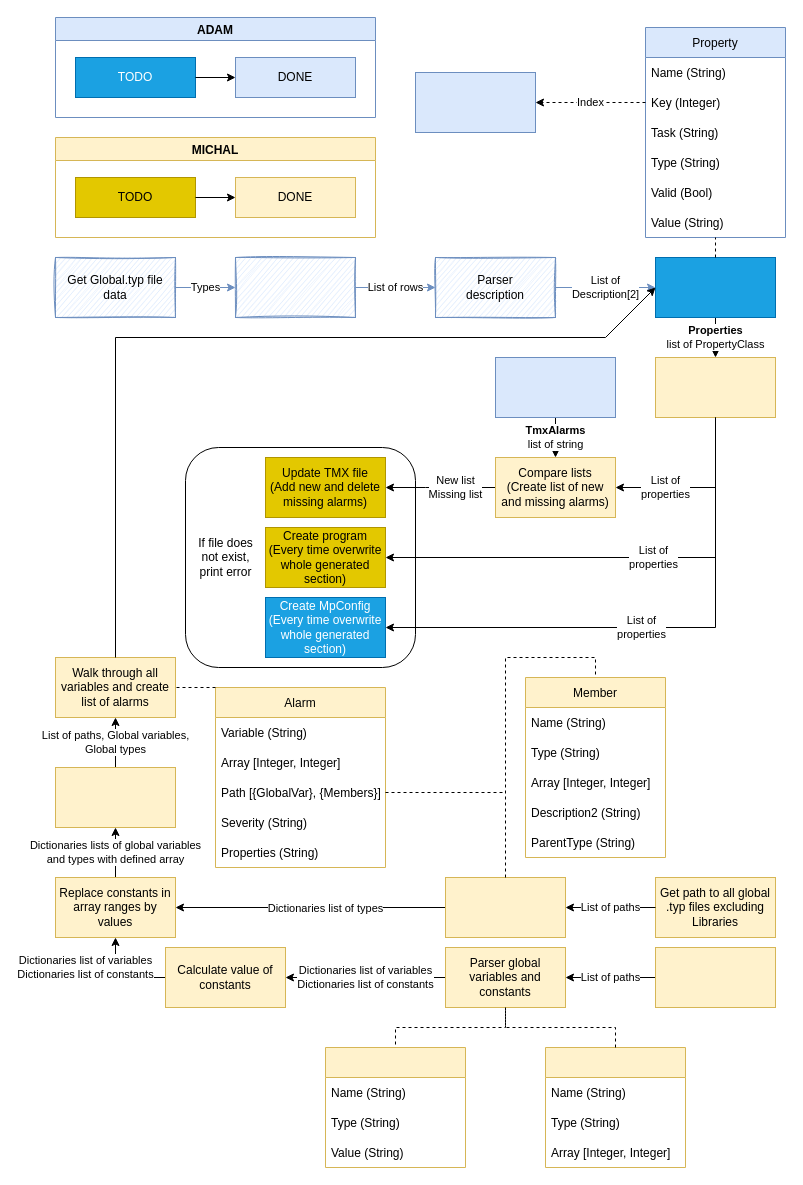
Some shapes in this 803 by 1185 pixel diagram are drawn without their labels. The shapes that lost their labels are listed below. From the top down, each one's box as (x1, y1, x2, y2) in pixels, then its label:
(414, 72, 536, 132): KEYS list of string
(234, 256, 356, 318): Parser rows
(654, 256, 776, 318): Parser properties
(494, 356, 616, 418): Get alarm names list of TMX file
(654, 356, 776, 418): Validity of properties
(54, 766, 176, 828): Create list of paths
(444, 876, 566, 938): Parser global types
(654, 946, 776, 1008): Get path to all global .var files excluding Libraries
(324, 1046, 466, 1168): Global constant
(544, 1046, 686, 1168): Global variable
